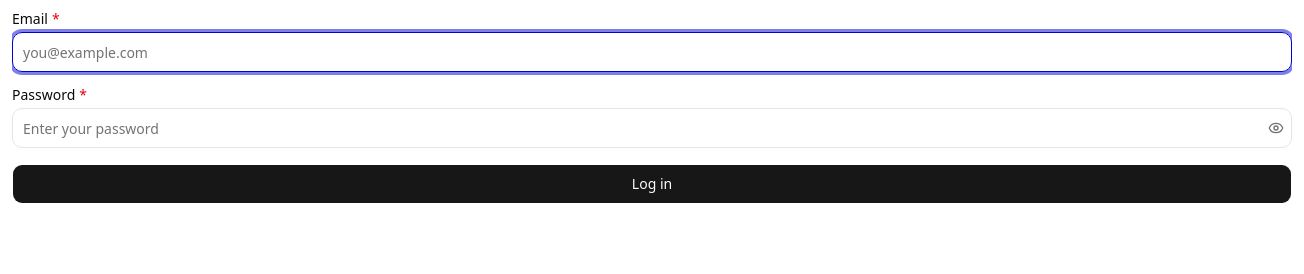
Test case: LoginForm › shows the API error above the form and clears it when the user edits
The width and height of the screenshot is (1304, 274).
Step 1. Type "anna@example.com" into the field labelled "Email *" → (652, 52), box [12,32,1292,72]
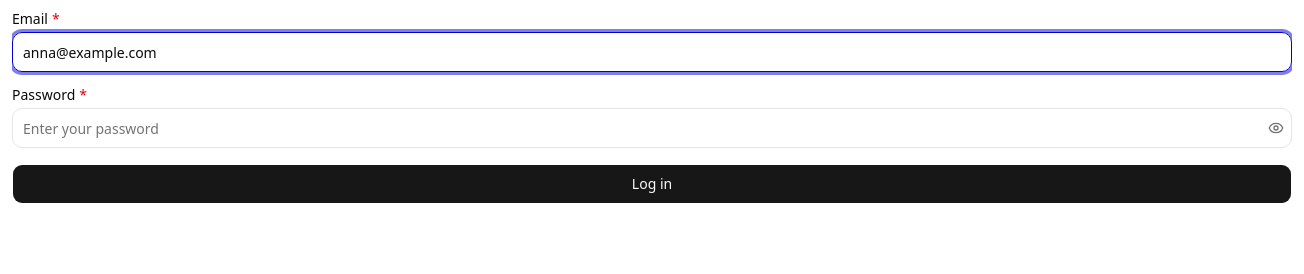
Step 2. Type "wrong password" into the password field labelled "Password *" → (638, 128), box [13,112,1264,144]
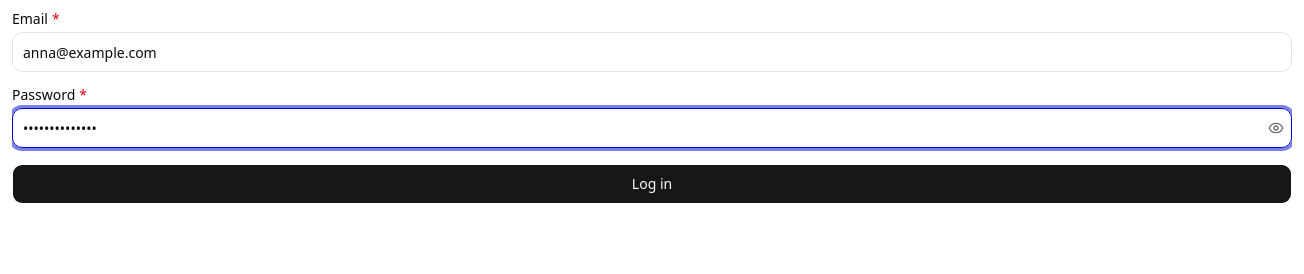
Step 3. Click the button "Log in" → (652, 184), box [12,164,1292,204]
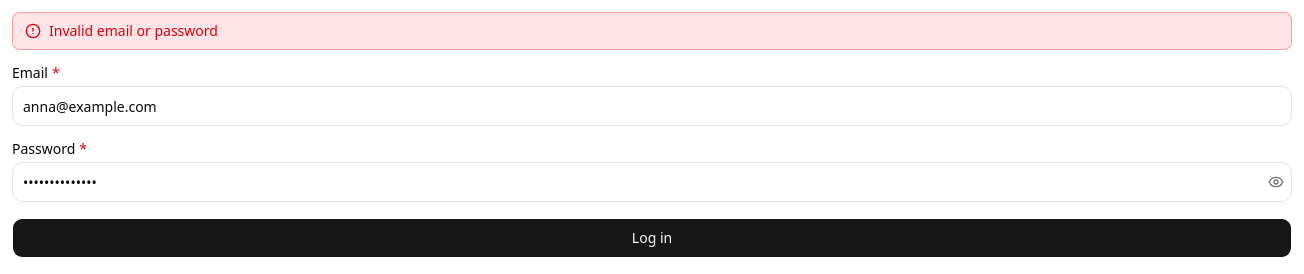
Check: the message reads "Invalid email or password", box [49,21,218,40]
Step 4. Type "x" into the password field labelled "Password *" → (638, 182), box [13,166,1264,198]
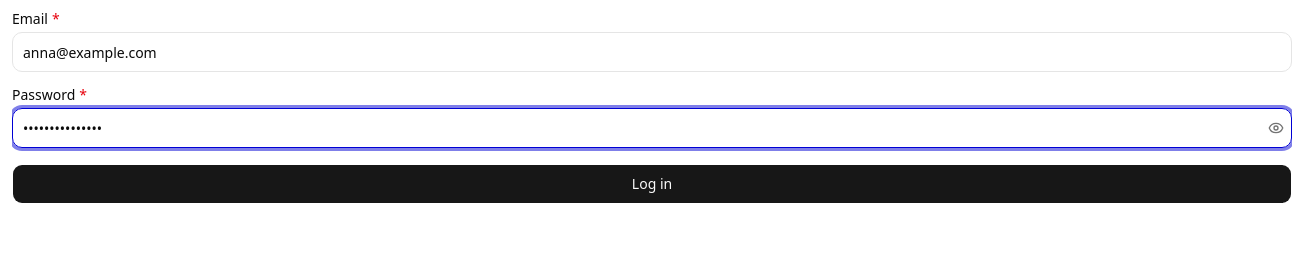
Check: the message "Invalid email or password" is gone
